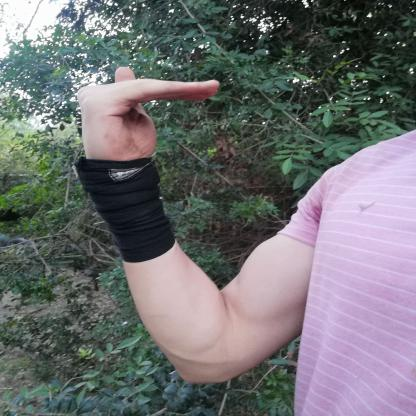KHAA: (53, 57, 235, 181)
